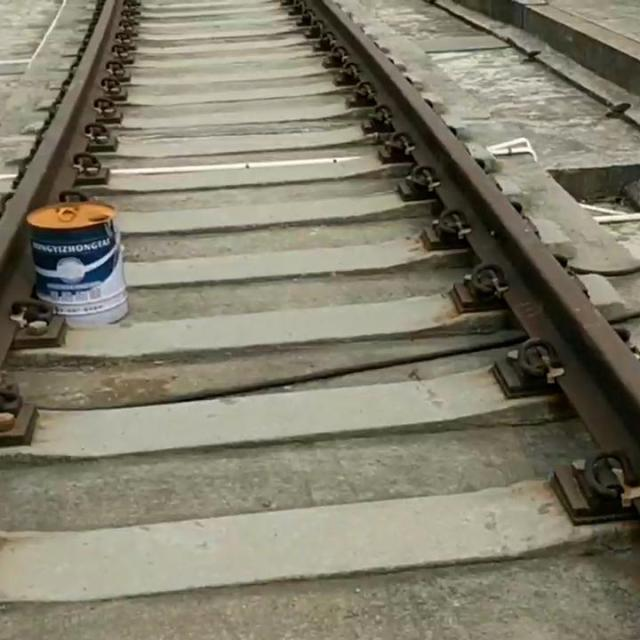danger: (19, 191, 157, 342)
